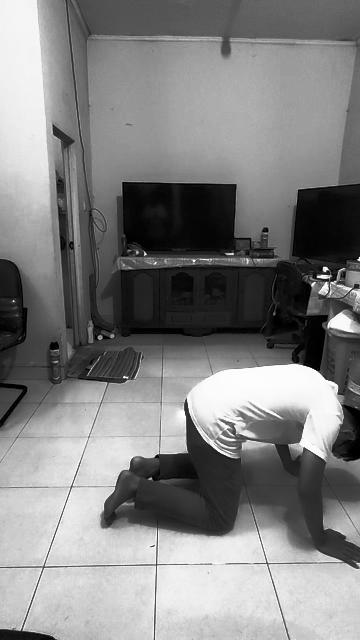jatuh: (108, 368, 358, 566)
